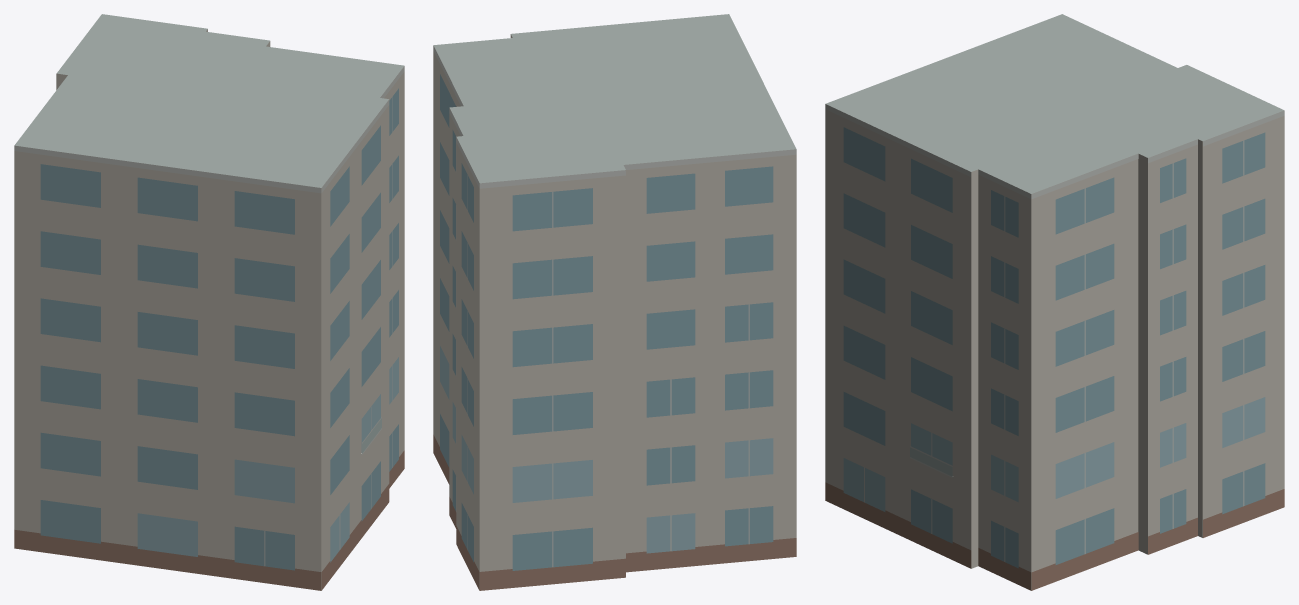
The model's file is survey-upis-32666574.glb.
3 renders of one model, left to right at view 1: azimuth 30°, elevation 25°; view 2: azimuth 150°, elevation 25°; view 3: azimuth 270°, elevation 25°, orthographic. The views are drawn at different scales.
Visible parts, largest first — view 1: survey-upis-32666574.tmp; view 2: survey-upis-32666574.tmp; view 3: survey-upis-32666574.tmp.
Part boxes in pixels (x1,y1,x2,y2): survey-upis-32666574.tmp: [14, 14, 404, 590]; survey-upis-32666574.tmp: [433, 14, 796, 590]; survey-upis-32666574.tmp: [825, 14, 1284, 590].
Bounding box in the file's own units: 17.82 × 18.3 × 19.21.
